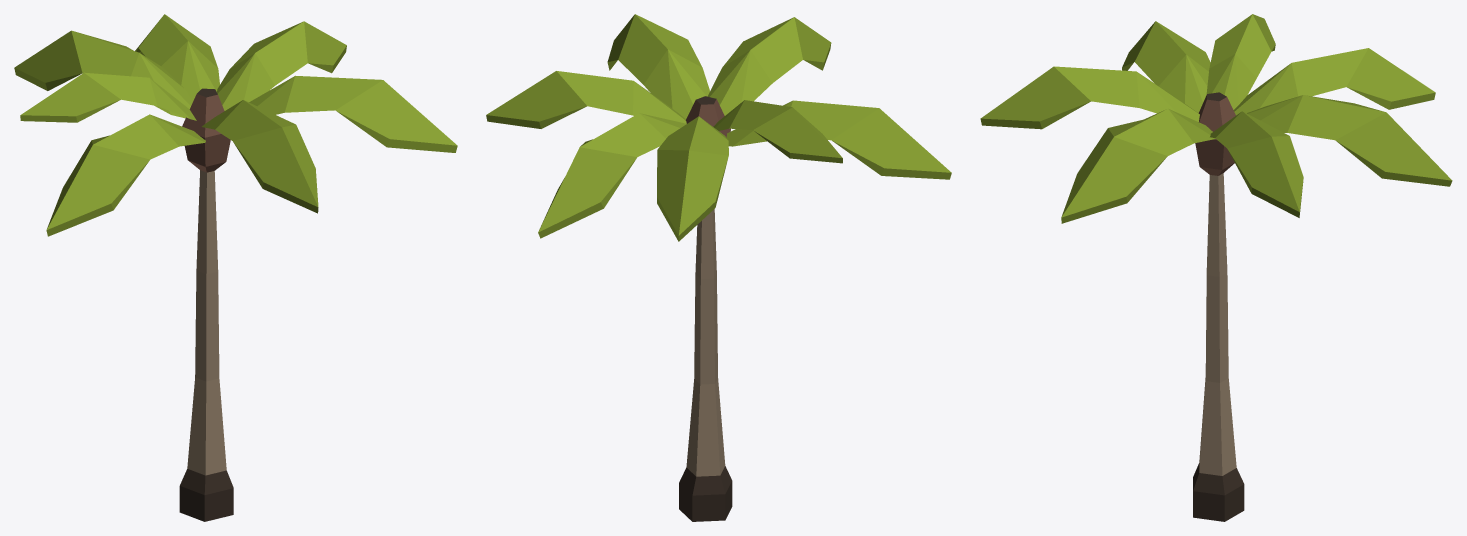
The model's file is PalmTree.gltf.
3 renders of one model, left to right at view 1: azimuth 30°, elevation 25°; view 2: azimuth 150°, elevation 25°; view 3: azimuth 270°, elevation 25°, orthographic.
Parts seen in each view (by area): view 1: node-0; view 2: node-0; view 3: node-0.
Boxes of the visible parts, x1=… form: node-0: x1=14, y1=14, x2=457, y2=521; node-0: x1=486, y1=14, x2=951, y2=521; node-0: x1=980, y1=14, x2=1452, y2=521.
Bounding box in the file's own units: 3.11 × 3.45 × 3.31.
